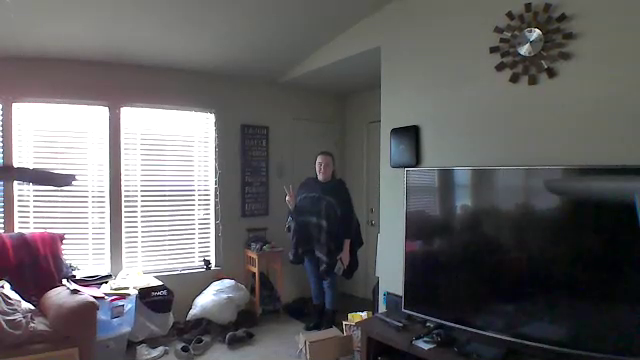peace: (280, 182, 305, 214)
